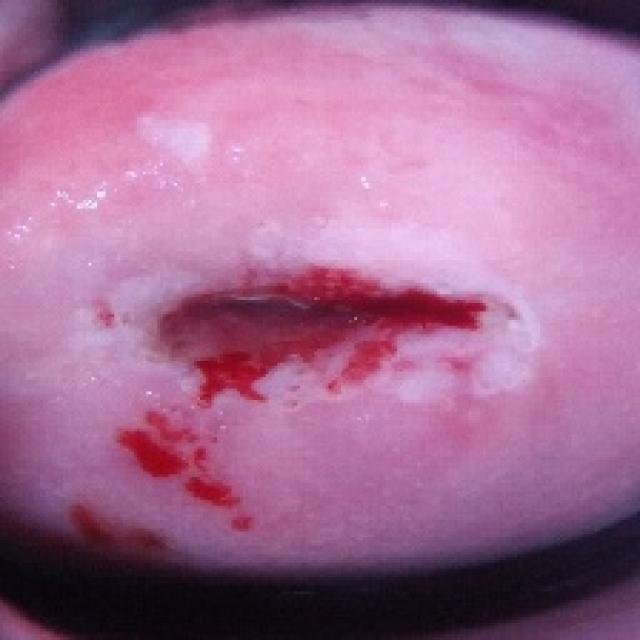type-3: (0, 54, 640, 632)
